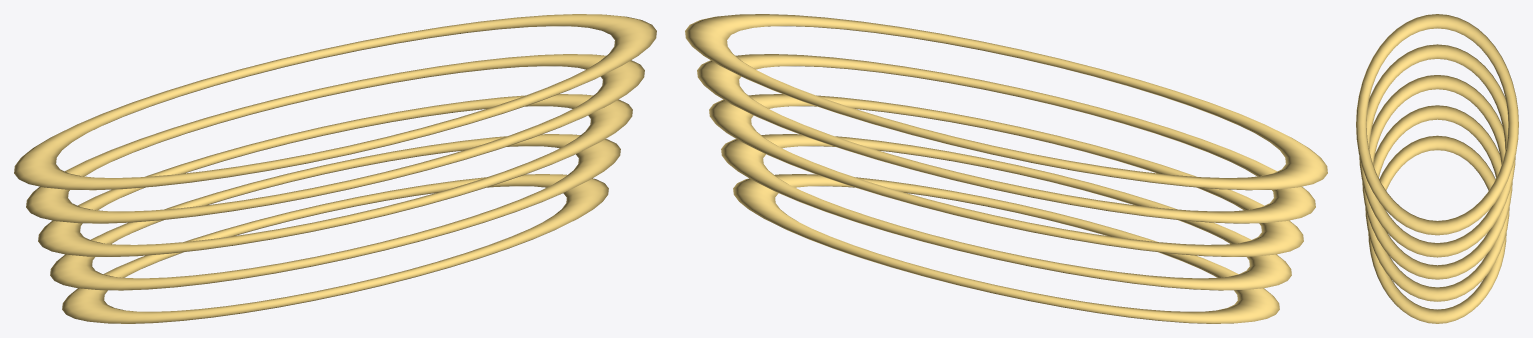
Rendered from golgi-apparatus.glb.
3 renders of one model, left to right at view 1: azimuth 30°, elevation 25°; view 2: azimuth 150°, elevation 25°; view 3: azimuth 270°, elevation 25°, orthographic. The views are drawn at different scales.
Visible parts, largest first — view 1: Golgi Apparatus; view 2: Golgi Apparatus; view 3: Golgi Apparatus.
Part boxes in pixels (x1=…): Golgi Apparatus: x1=14, y1=14, x2=656, y2=323; Golgi Apparatus: x1=685, y1=14, x2=1327, y2=323; Golgi Apparatus: x1=1356, y1=14, x2=1518, y2=323.
Bounding box in the file's own units: 1.44 × 0.3326 × 0.4494.
